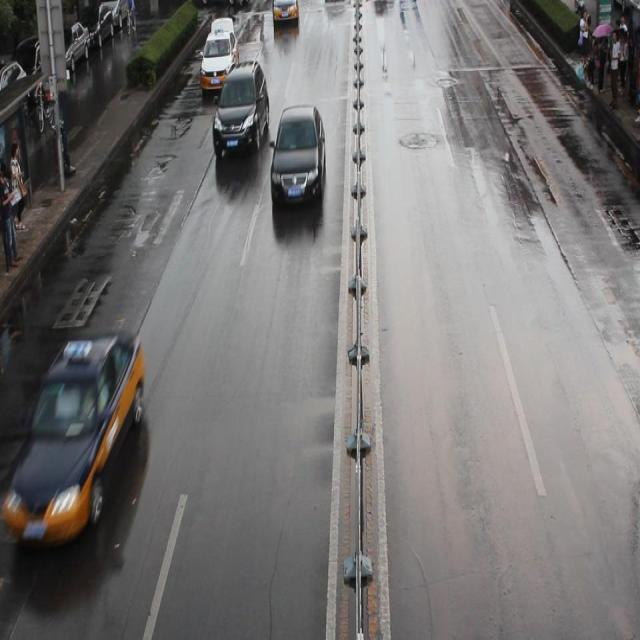car: (14, 334, 145, 551), (270, 104, 325, 207), (212, 62, 270, 155), (200, 30, 238, 93), (271, 1, 298, 26)
